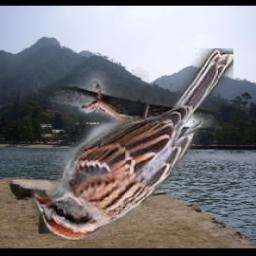Sparrow: (31, 48, 233, 240)
